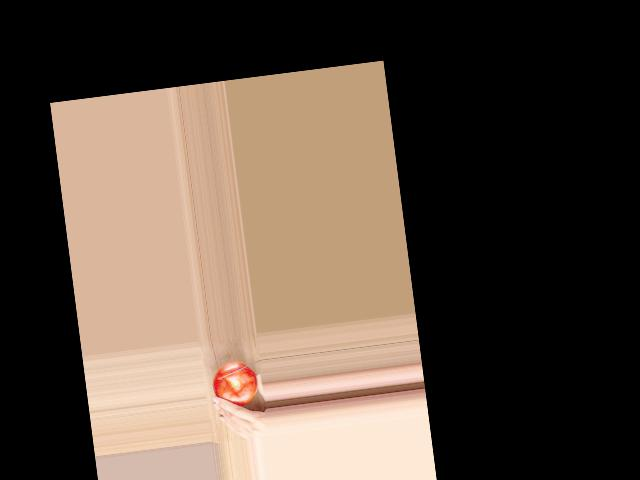tomato: (210, 359, 260, 409)
